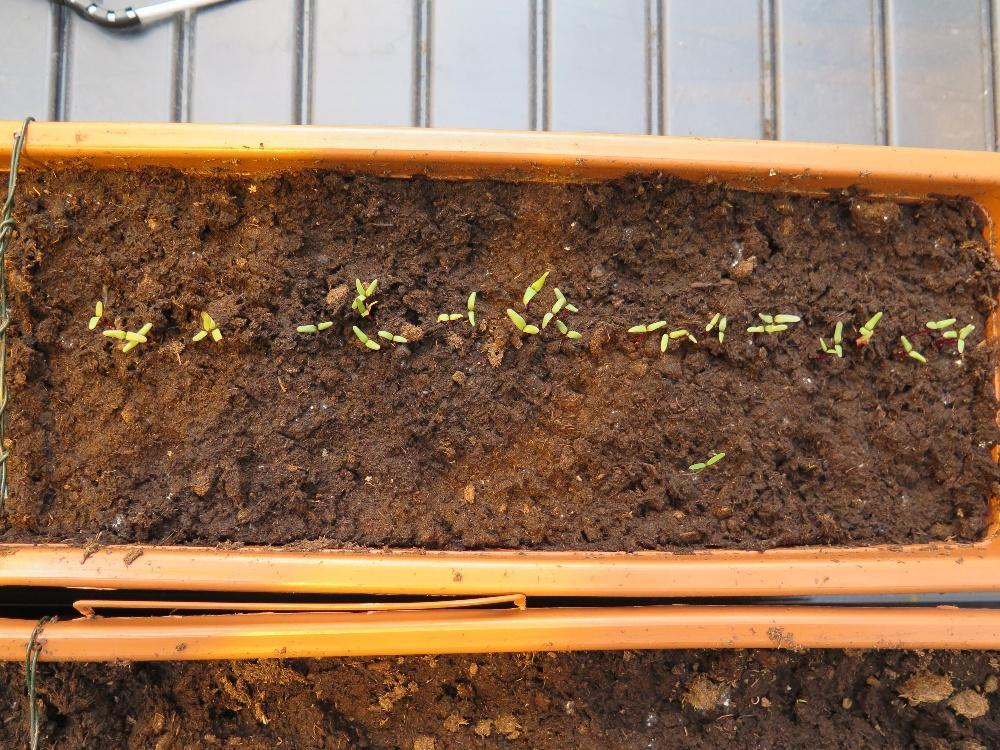crop: (521, 268, 548, 305), (504, 306, 538, 334), (898, 333, 925, 365), (626, 317, 667, 332), (756, 310, 800, 323), (554, 318, 581, 339), (86, 298, 103, 330), (294, 319, 333, 332), (375, 328, 407, 343), (923, 314, 957, 328), (744, 322, 786, 332), (465, 289, 476, 326), (435, 310, 462, 323)
weed: (686, 450, 725, 471)
